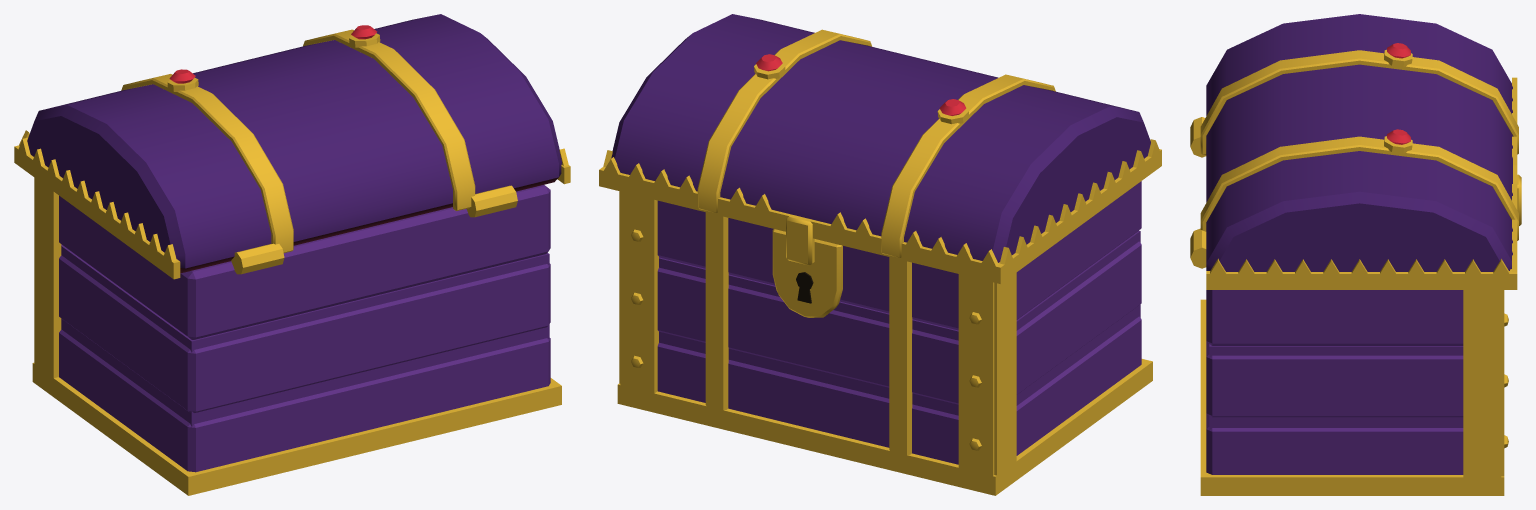
Rendered from coffre_or.fbx.
The picture shows the model from 3 angles, left to right: view 1: azimuth 30°, elevation 25°; view 2: azimuth 150°, elevation 25°; view 3: azimuth 270°, elevation 25°; orthographic projection. The views are drawn at different scales.
Parts seen in each view (by area): view 1: Corps, Couvercle, Ferrures; view 2: Couvercle, Corps, Ferrures; view 3: Couvercle, Corps, Ferrures.
Boxes of the visible parts, x1,y1,x2,y2 form: Corps: (59,185,550,472); Couvercle: (14,14,570,279); Ferrures: (32,177,561,495); Couvercle: (599,14,1161,283); Corps: (657,181,1141,464); Ferrures: (617,191,1152,495); Couvercle: (1200,14,1521,289); Corps: (1206,290,1463,474); Ferrures: (1190,117,1508,495).
Bounding box in the file's own units: 1.53 × 1.2 × 1.13.
